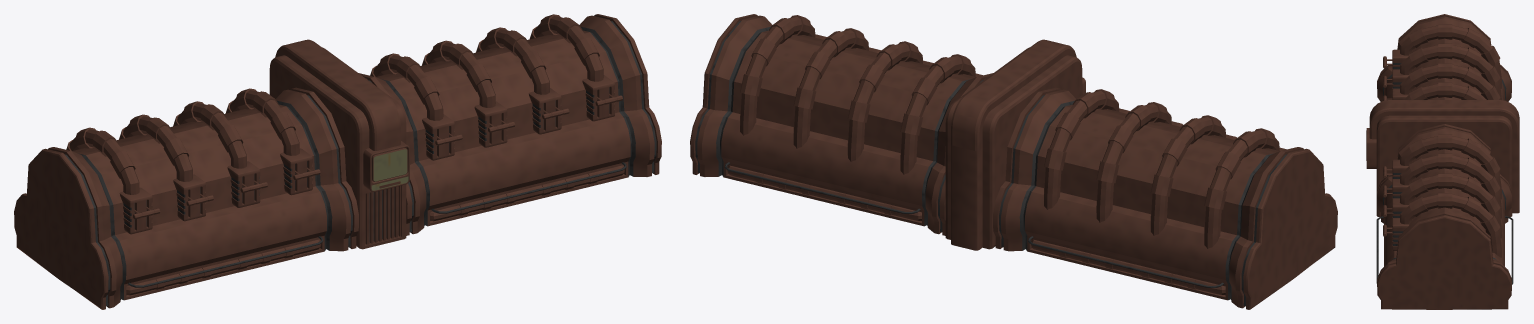
File: RustMachine.fbx
3 renders of one model, left to right at view 1: azimuth 30°, elevation 25°; view 2: azimuth 150°, elevation 25°; view 3: azimuth 270°, elevation 25°, orthographic. The views are drawn at different scales.
Visible parts, largest first — view 1: Cylinder.014; view 2: Cylinder.014; view 3: Cylinder.014.
Boxes of the visible parts, x1,y1,x2,y2 form: Cylinder.014: (14,14,661,309); Cylinder.014: (690,14,1337,309); Cylinder.014: (1366,14,1519,309).
Bounding box in the file's own units: 1637 × 392 × 522.
